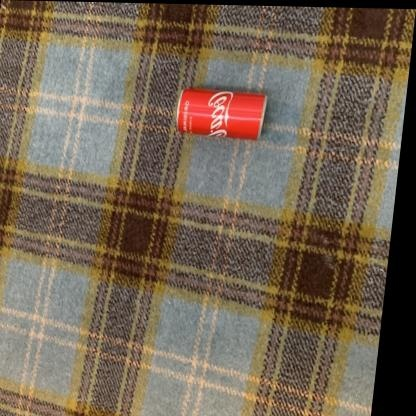trash: (177, 87, 266, 139)
